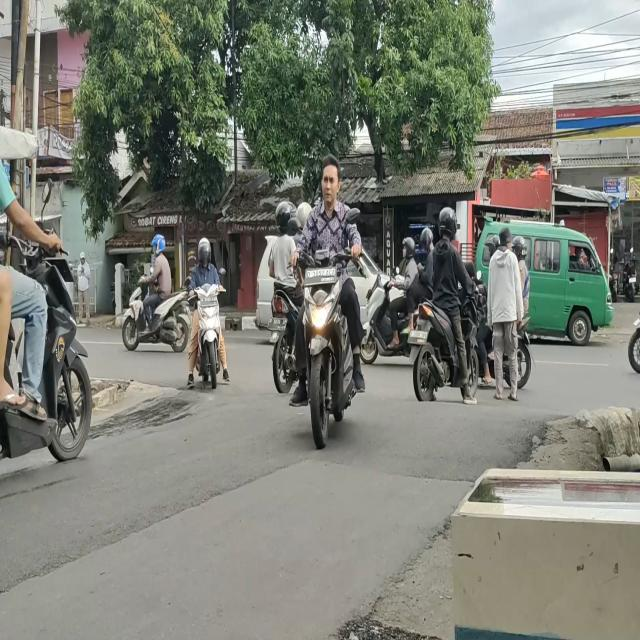helmet: (274, 200, 298, 234), (437, 206, 458, 242), (149, 230, 164, 257), (511, 236, 526, 262), (197, 238, 211, 264), (400, 238, 414, 258), (421, 226, 432, 248)
no-helmet: (321, 156, 342, 209)
